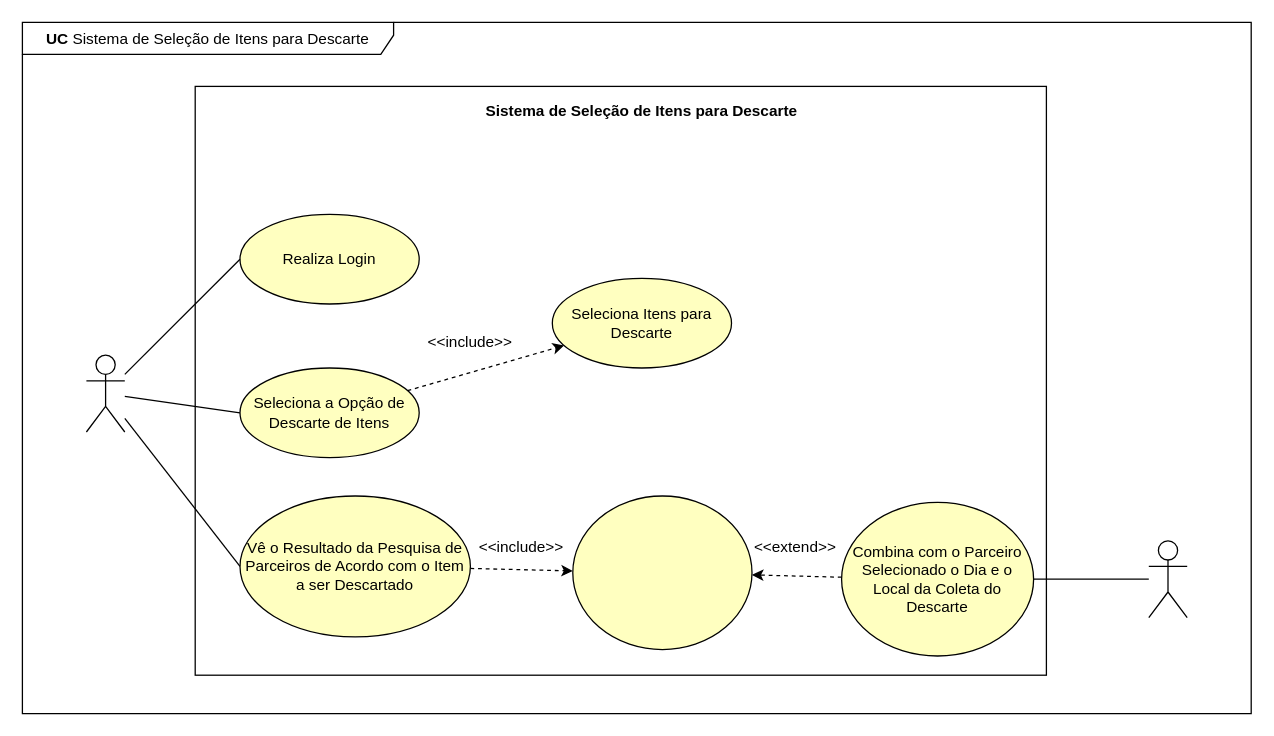
Some shapes in this 1274 by 736 pixel diagram are drawn without their labels. Here are the shapes that lost their labels. From the top down, the centre of each, then its label:
the point at 105,393: Usuário
the point at 662,572: Entra em contato com estabelecimento parceiro por meio do sistema de mensagens
the point at 1167,579: Parceiro do aplicativo
